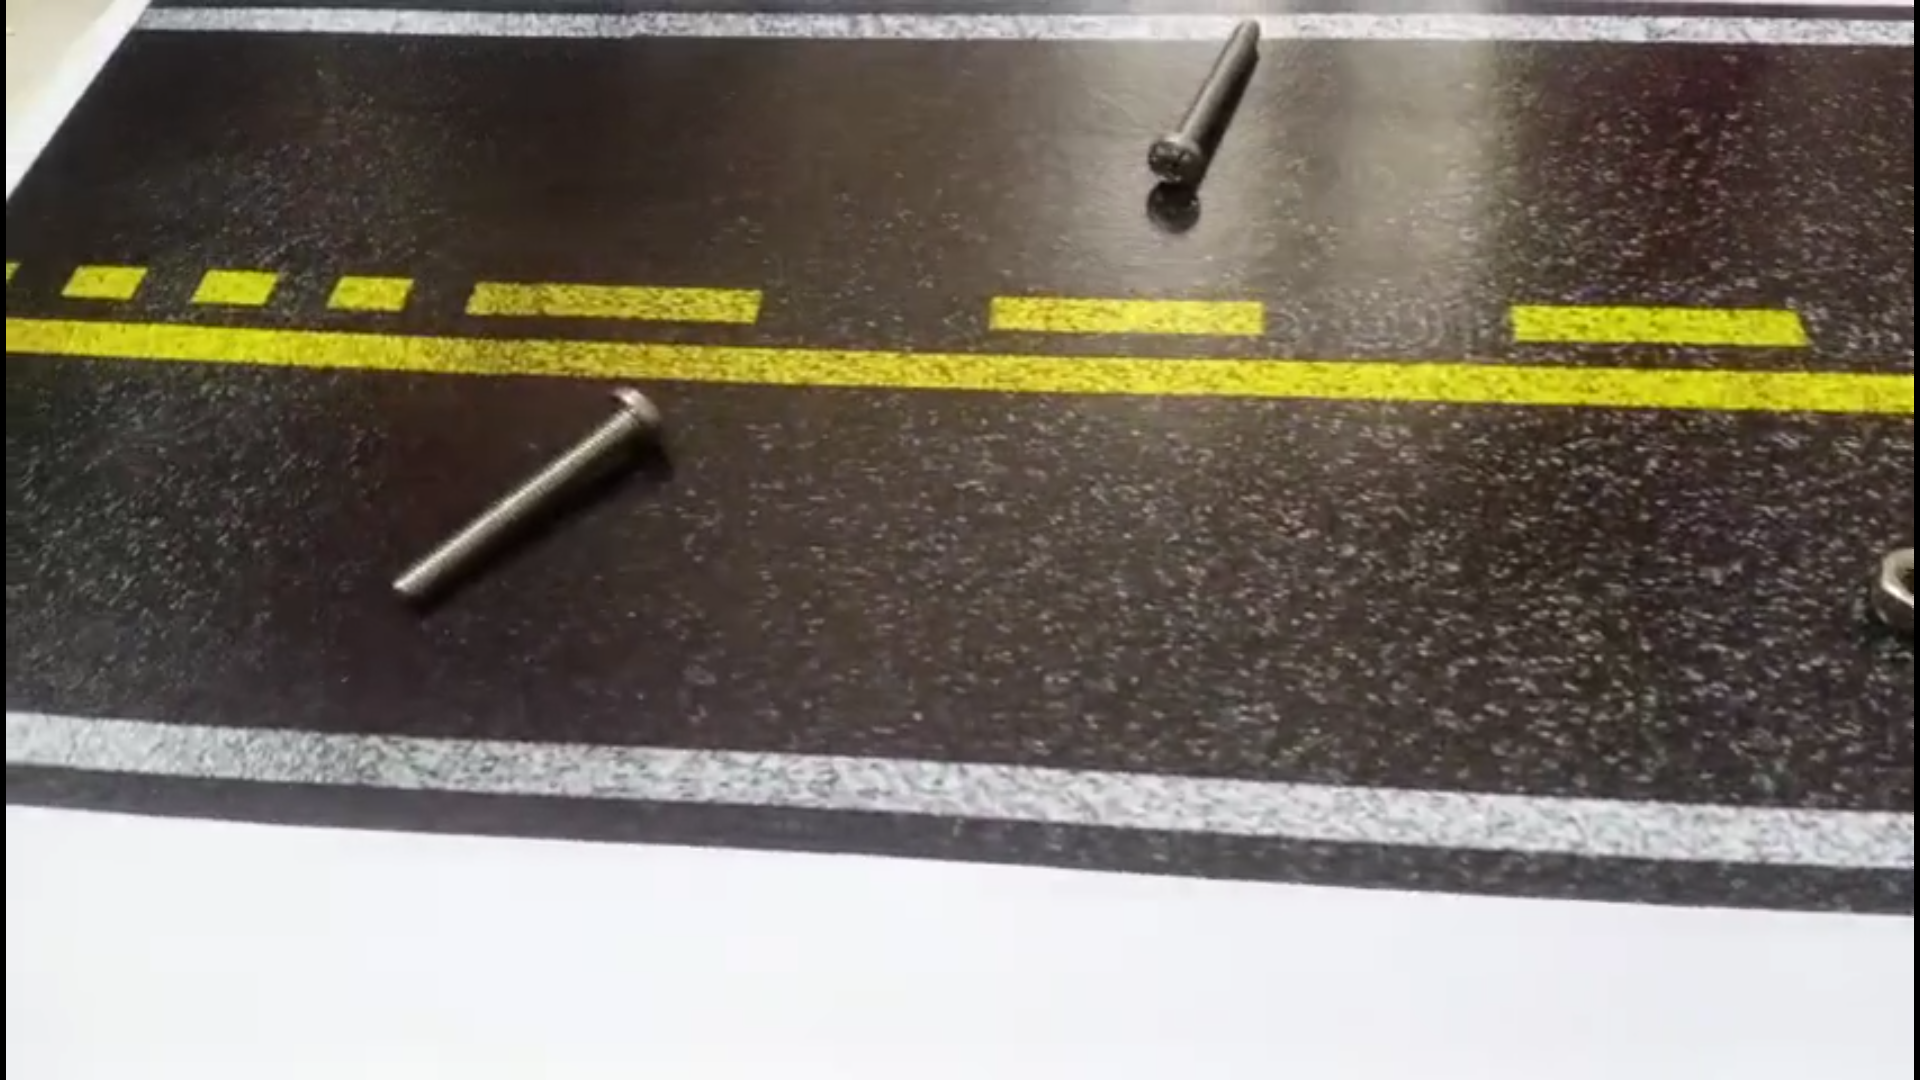metal: (393, 381, 665, 640), (1139, 18, 1266, 193)
